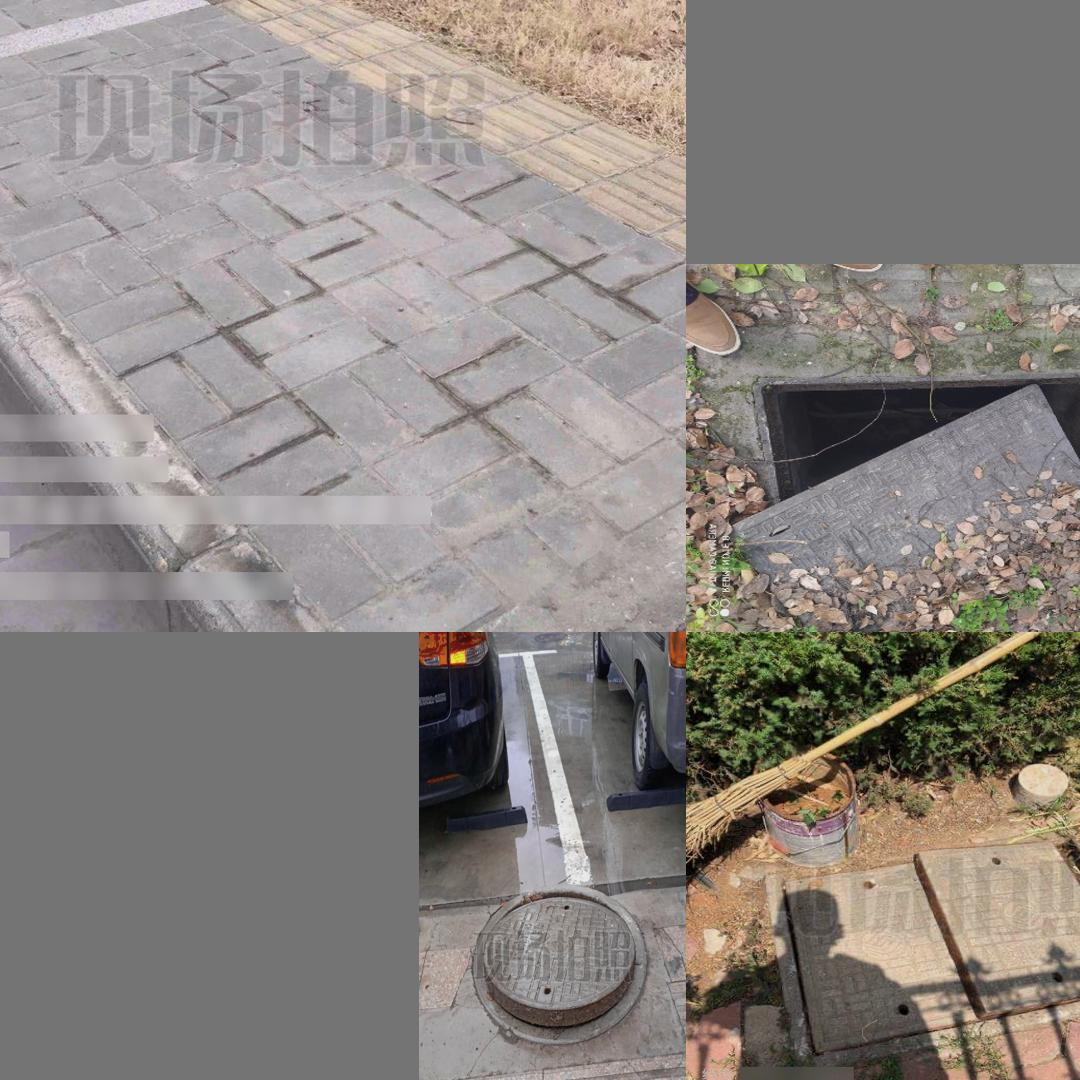lose: (771, 387, 1080, 629)
uncovered: (765, 834, 1080, 1072), (471, 885, 647, 1042)
